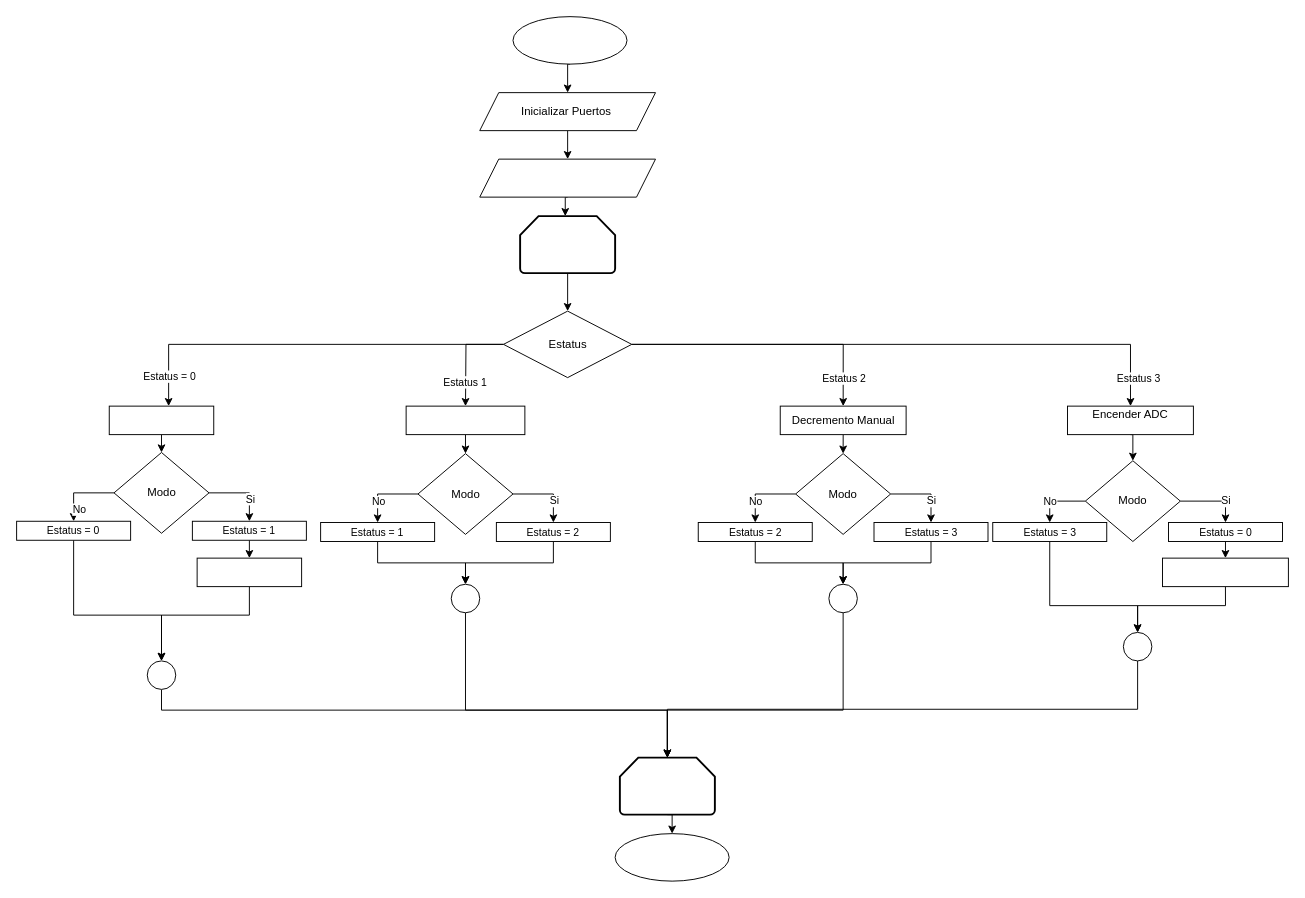
This 1305x898 diagram has some shape labels left out. The shapes that lost their labels are listed below. From the top down, each one's box as (x1, y1, x2, y2) in pixels, then its label:
(512, 16, 627, 64): INICIO
(479, 158, 656, 197): Inicializar Timer
(519, 215, 616, 274): LOOP
(108, 405, 214, 435): Encender Timer
(405, 405, 525, 435): Incremento Manual
(196, 557, 302, 587): Apagar Timer
(1162, 557, 1288, 587): Apagar ADC
(614, 833, 729, 881): FIN
